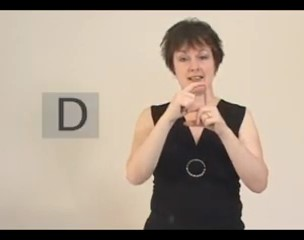D: (163, 79, 227, 133)
